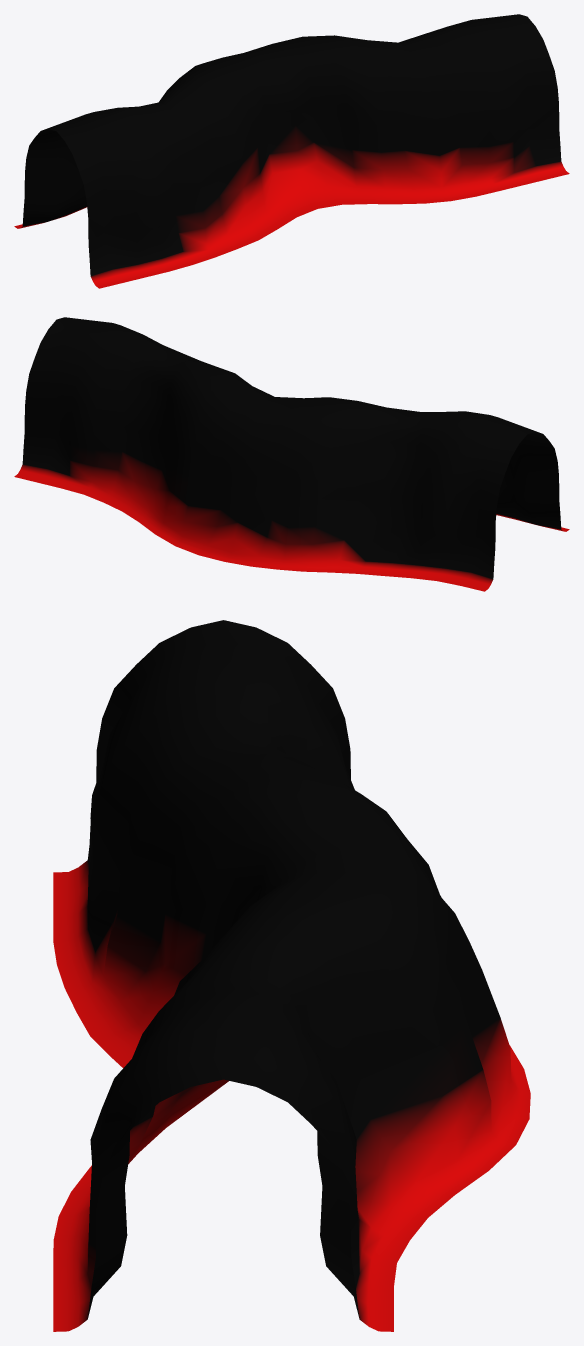
Rendered from GroundObject04C.fbx.
3 renders of one model, top to bottom at view 1: azimuth 30°, elevation 25°; view 2: azimuth 150°, elevation 25°; view 3: azimuth 270°, elevation 25°, orthographic. The views are drawn at different scales.
Parts seen in each view (by area): view 1: GroundObject04C; view 2: GroundObject04C; view 3: GroundObject04C.
Boxes of the visible parts, bbox=[...] form: GroundObject04C: bbox=[14, 14, 569, 288]; GroundObject04C: bbox=[14, 317, 569, 591]; GroundObject04C: bbox=[53, 620, 530, 1331].
Bounding box in the file's own units: 4 × 1.06 × 1.76.
